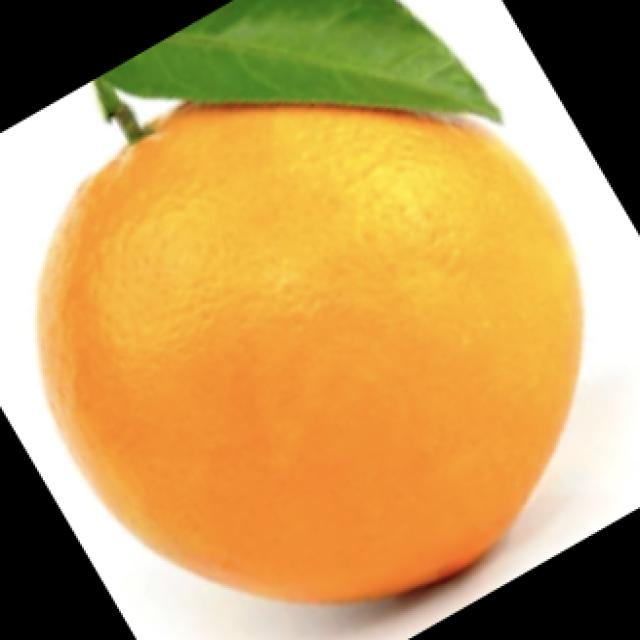matang: (41, 104, 578, 595)
